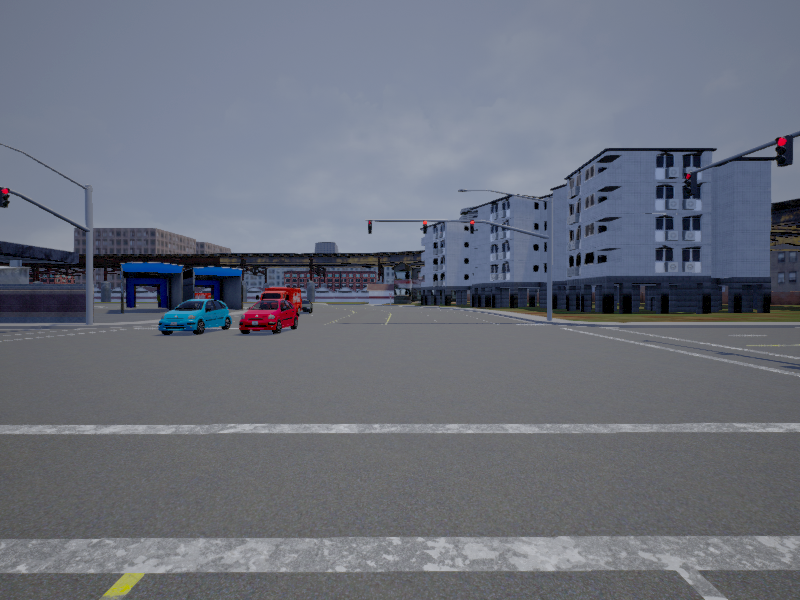Benign: (160, 297, 233, 334), (241, 298, 298, 334), (260, 286, 303, 318)
